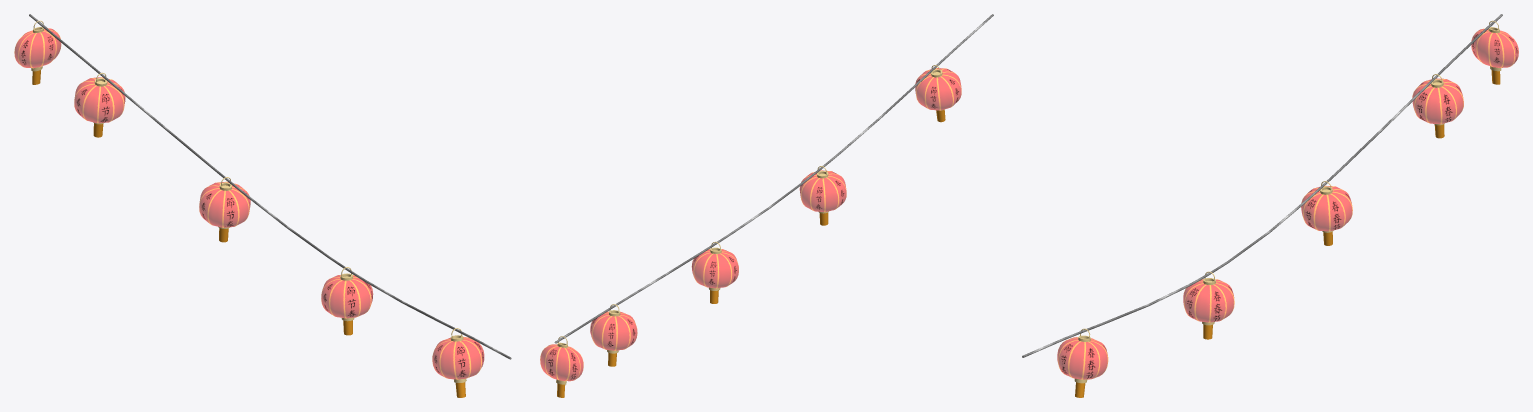
Rendered from SM_lamp_spline_Splines_19.fbx.
3 views of the same model, side by side, from view 1: azimuth 30°, elevation 25°; view 2: azimuth 150°, elevation 25°; view 3: azimuth 330°, elevation 25° (orthographic). The views are drawn at different scales.
Visible parts, largest first — view 1: SM_lamp_spline_Splines_19; view 2: SM_lamp_spline_Splines_19; view 3: SM_lamp_spline_Splines_19.
Boxes of the visible parts, x1,y1,x2,y2 form: SM_lamp_spline_Splines_19: (14, 14, 511, 397); SM_lamp_spline_Splines_19: (540, 14, 993, 397); SM_lamp_spline_Splines_19: (1022, 14, 1518, 397).
Size of the model in its own units: 66.65 by 1014 by 124.
